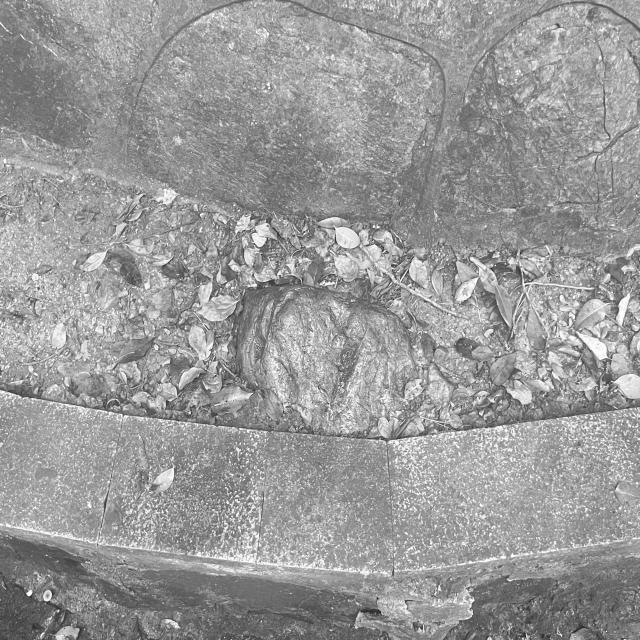Stone: (238, 285, 417, 434)
